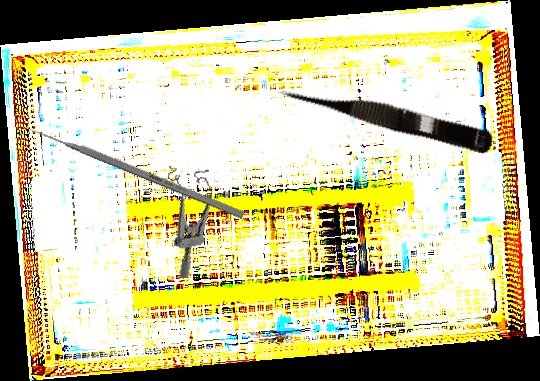Micro Scissor: (274, 73, 497, 156)
Pusher: (21, 121, 246, 220)
Speculum: (159, 158, 228, 280)
